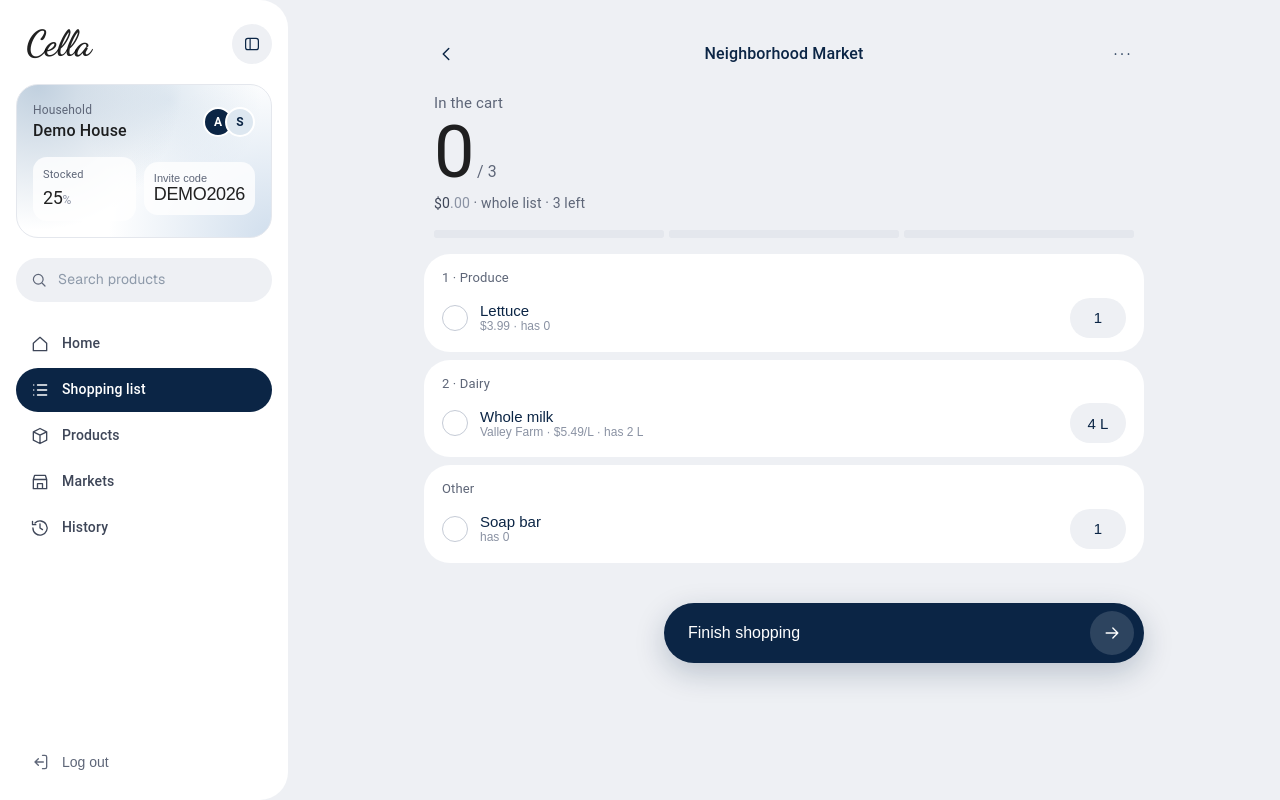
Test case: Shopping list in the store › checks items off and marks one as not found
Click the checkbox labelled "Lettuce" at (505,311), box [442,290,1062,346]
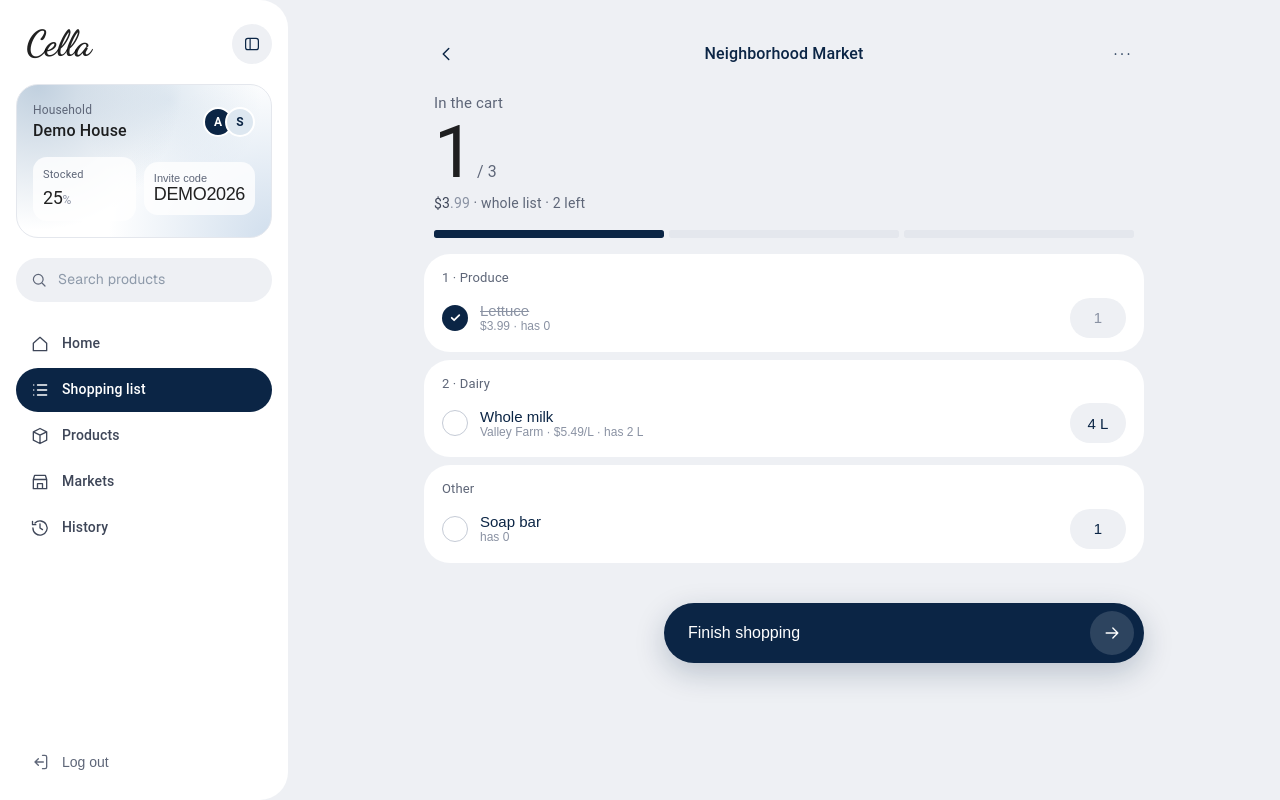
Expected: the picture named "1 of 3 items in the cart" is shown, [434,230,1134,238]
Click the button named "Options for Whole milk" at (1098,423), box [1070,403,1126,443]
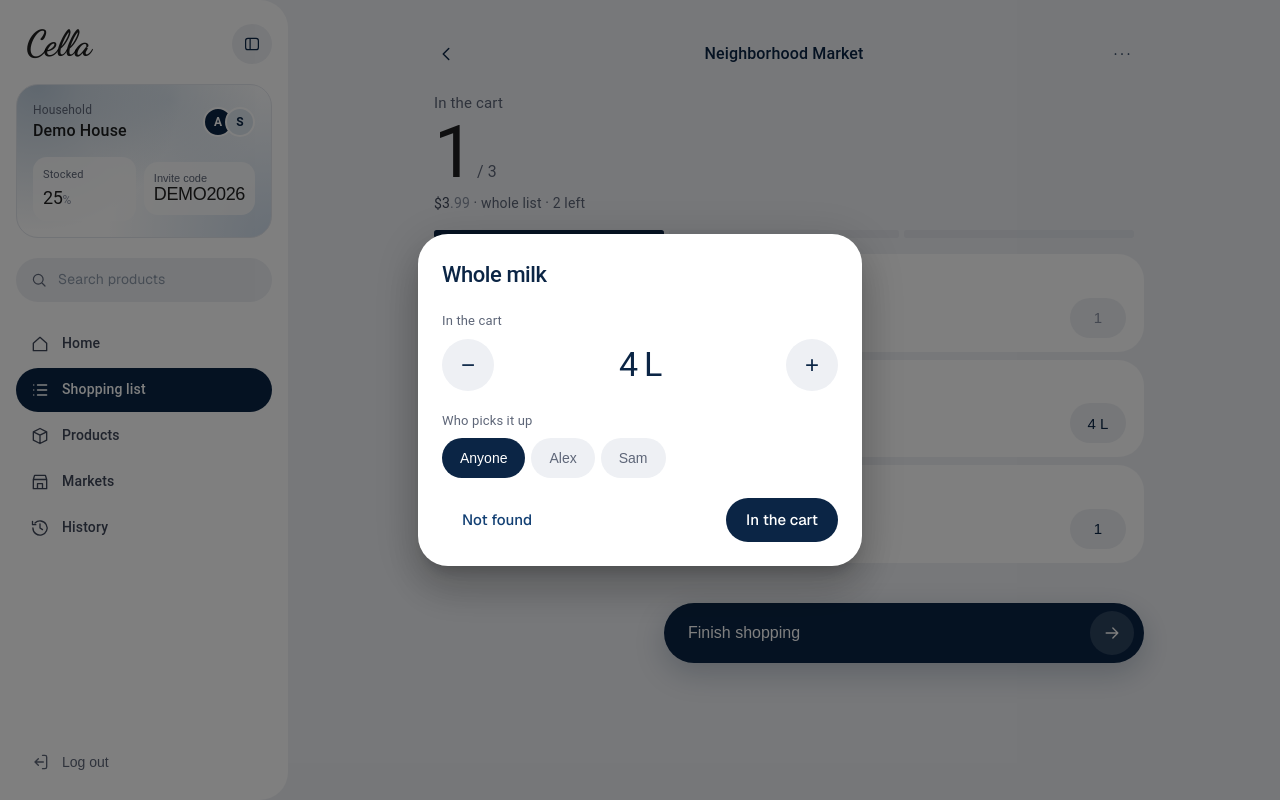
Click the button "Not found" at (497,520), box [442,498,552,542]
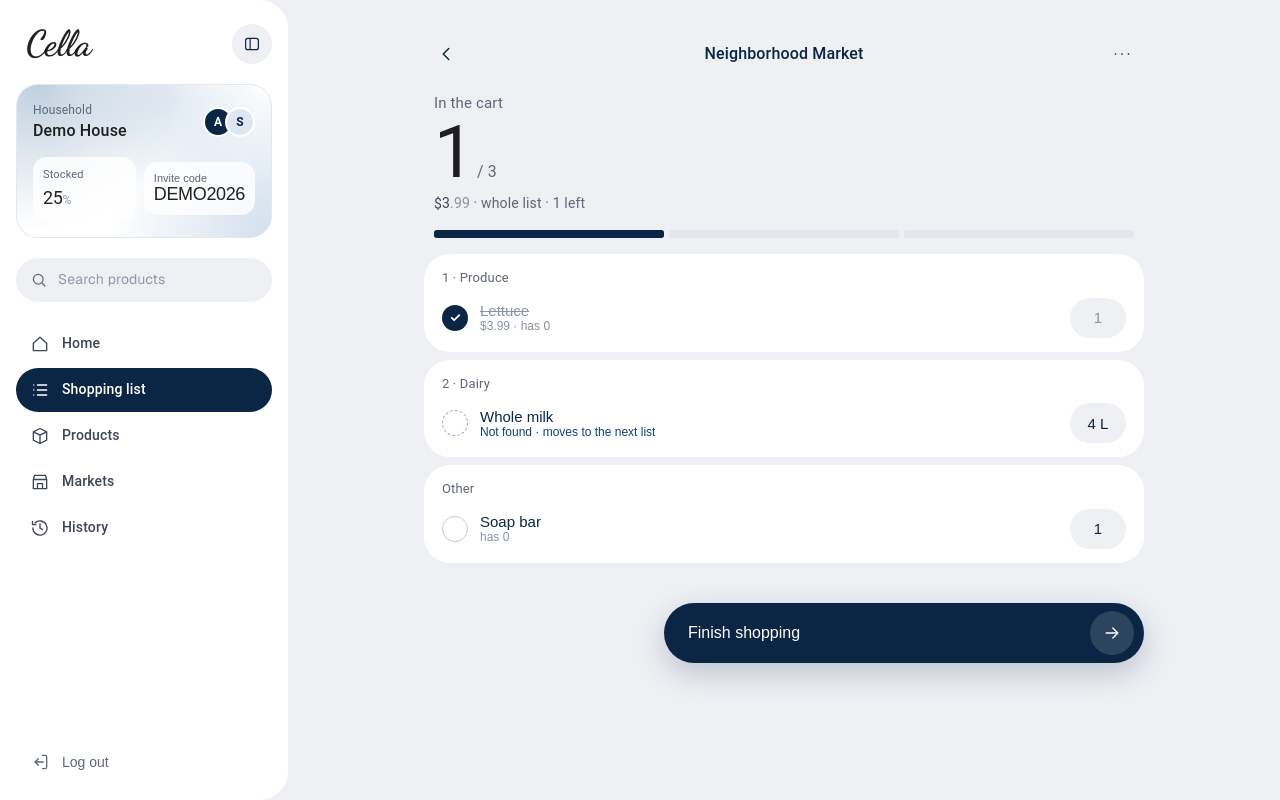
Expected: the text "Not found · moves to the next list" is shown, [480,425,655,439]
